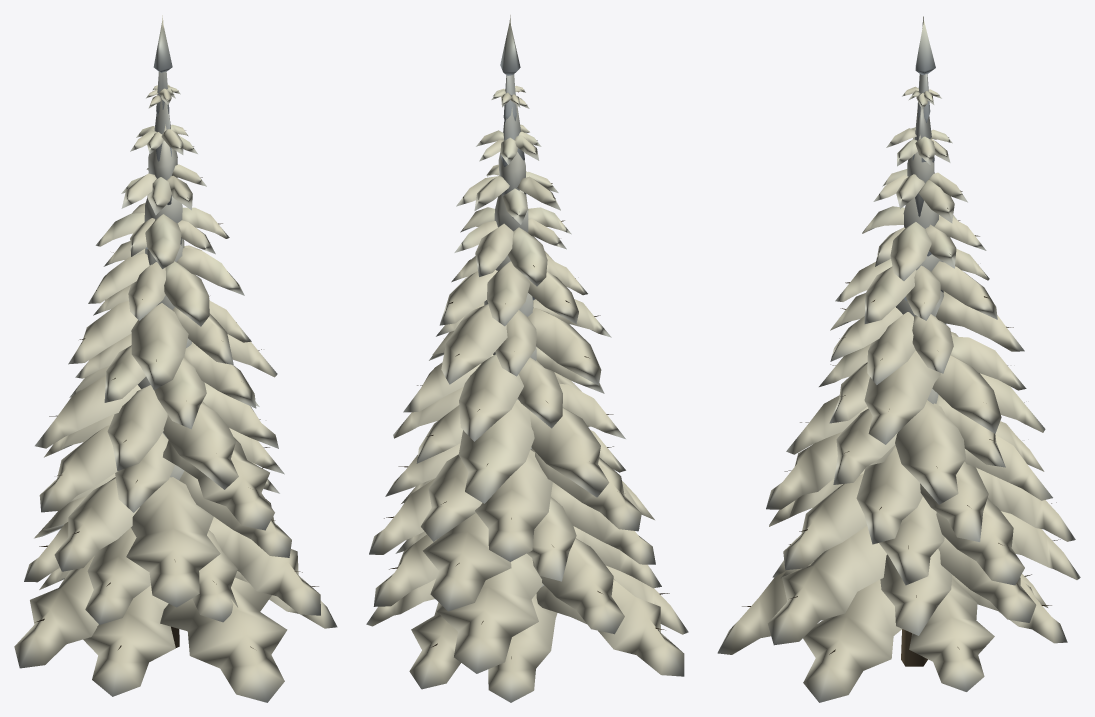
3 views of the same model, side by side, from view 1: azimuth 30°, elevation 25°; view 2: azimuth 150°, elevation 25°; view 3: azimuth 270°, elevation 25° (orthographic). The views are drawn at different scales.
Parts seen in each view (by area): view 1: crown; view 2: crown; view 3: crown, trunk.
Boxes of the visible parts, x1,y1,x2,y2 form: crown: [14, 15, 337, 702]; crown: [366, 15, 688, 702]; crown: [717, 16, 1080, 702]; trunk: [742, 137, 1060, 666].
Size of the model in its own units: 7.54 by 16 by 8.13.
